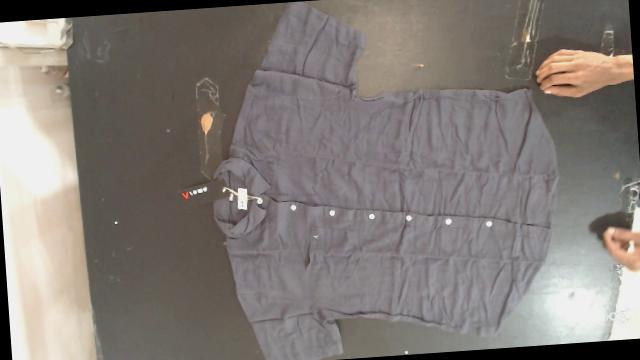new-garment: (213, 1, 558, 360)
